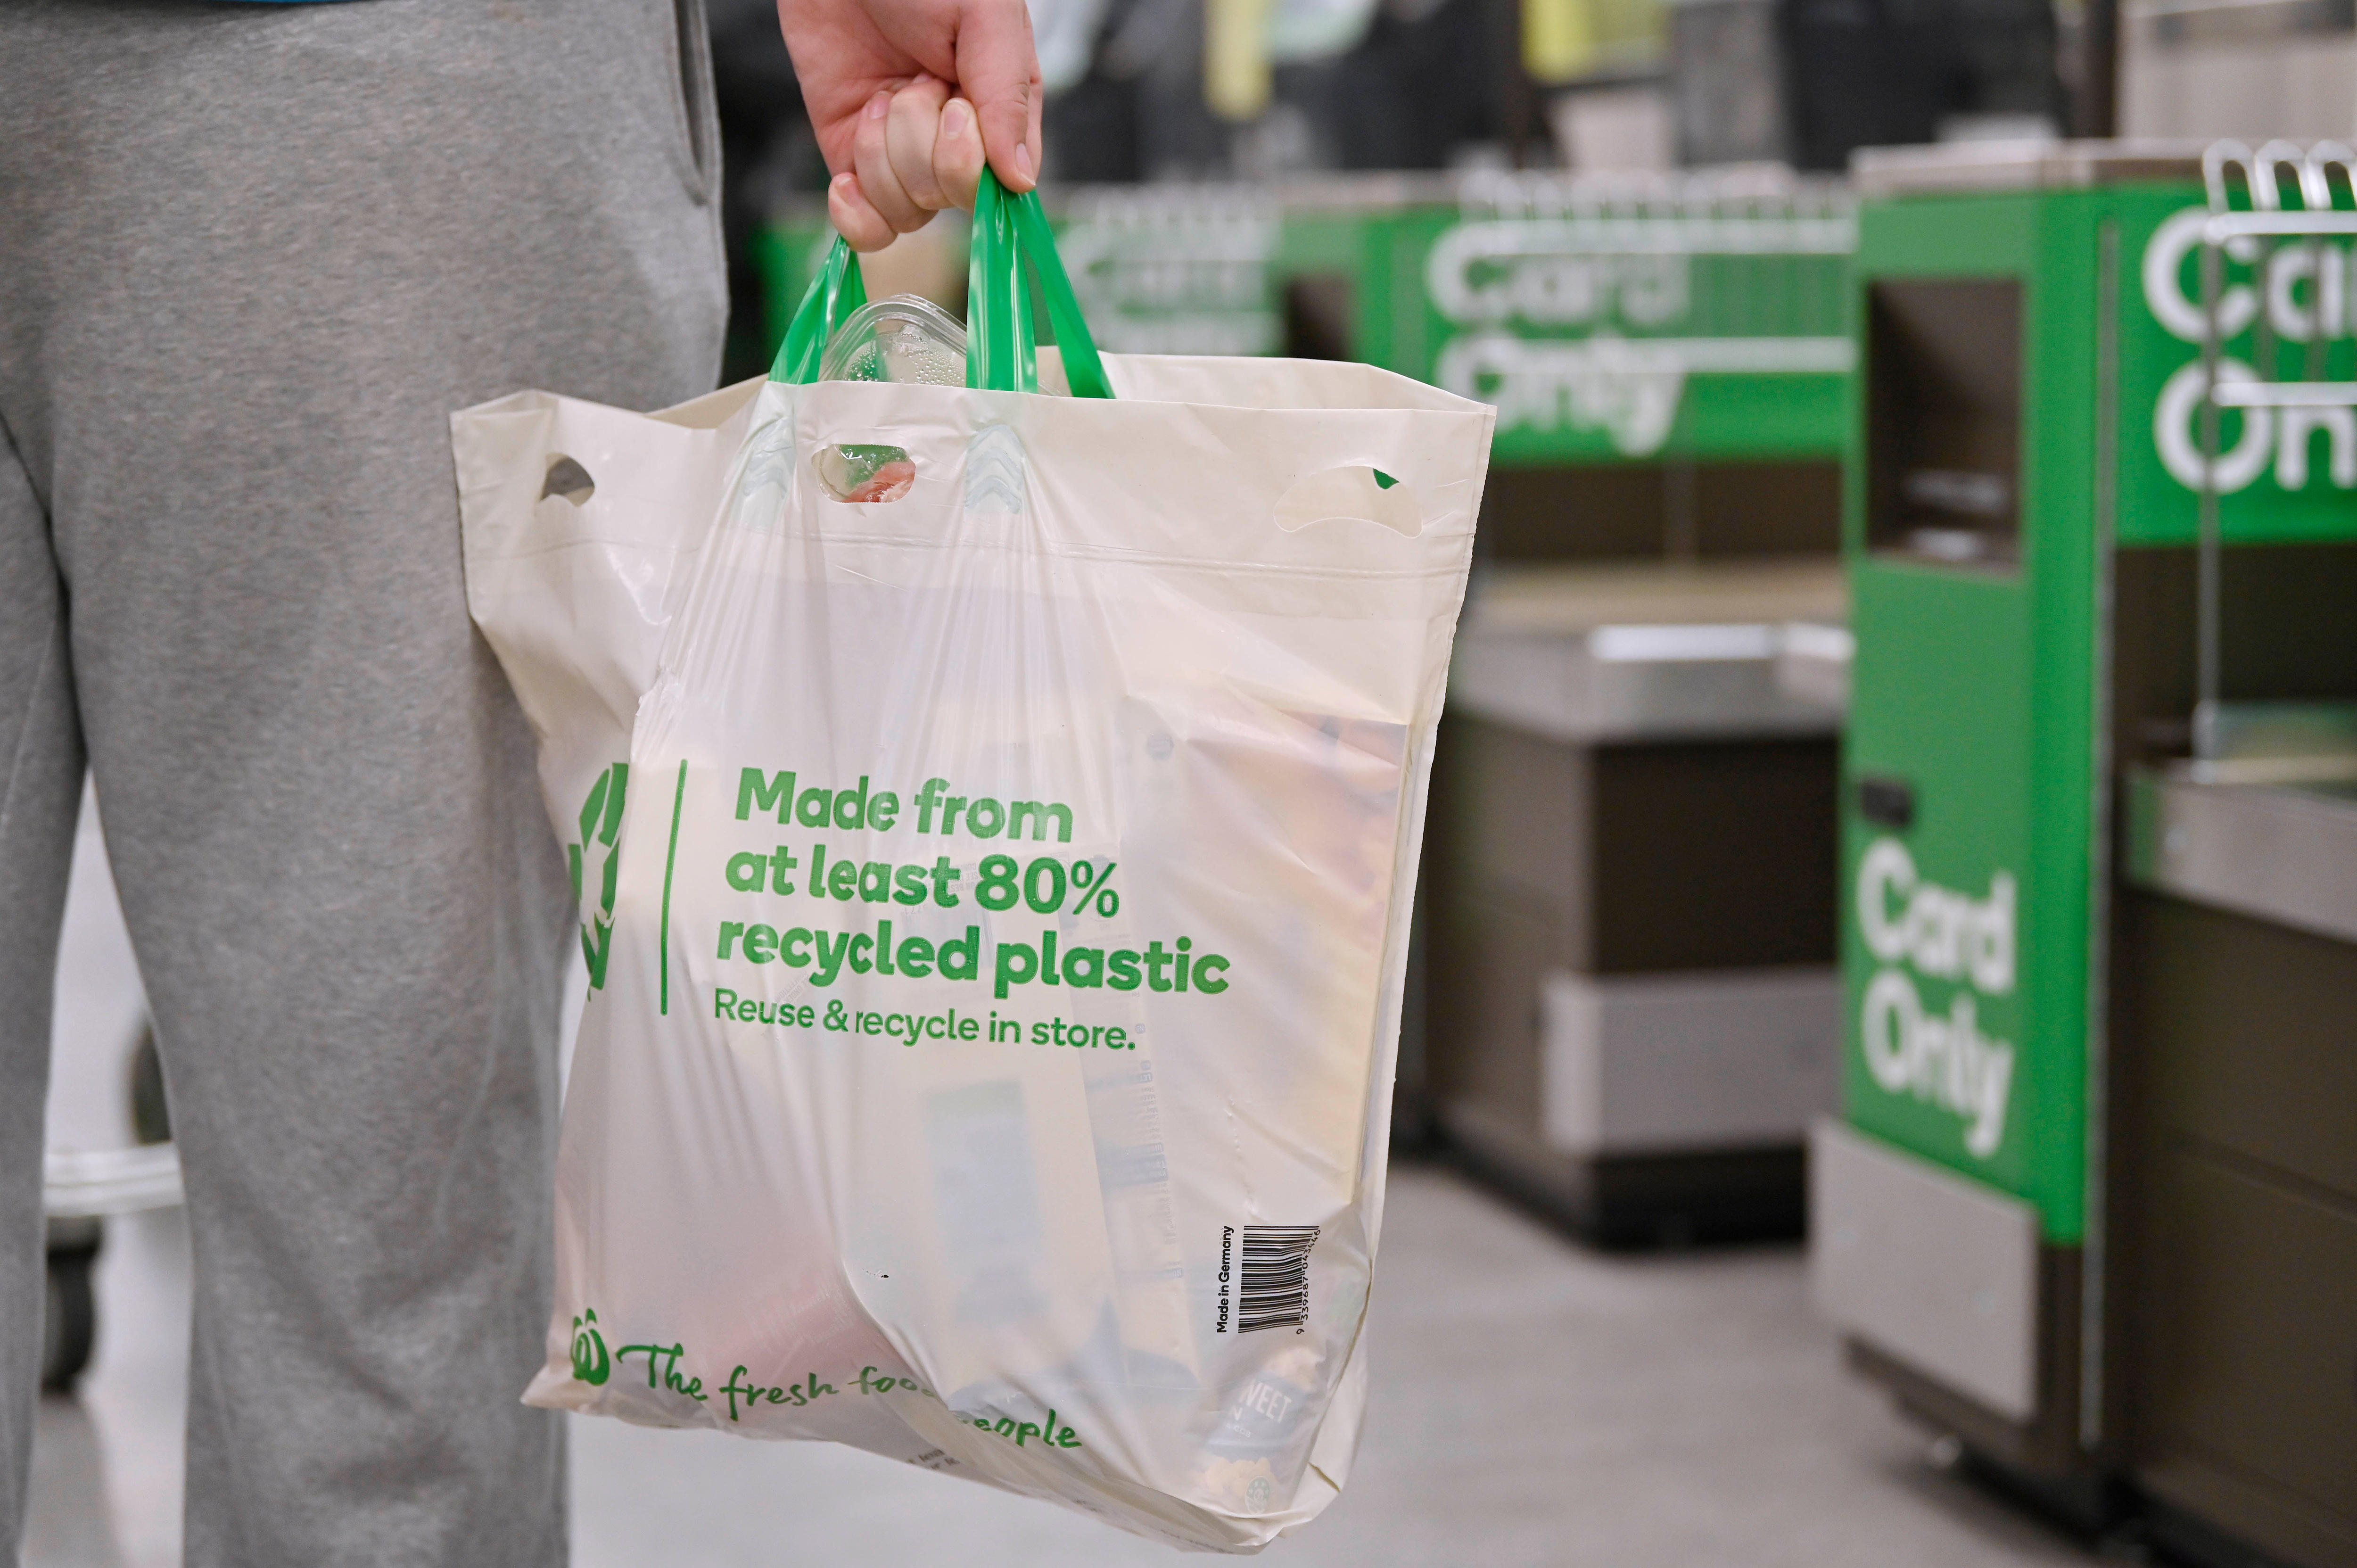PlasticBag: (460, 347, 1493, 1523)
